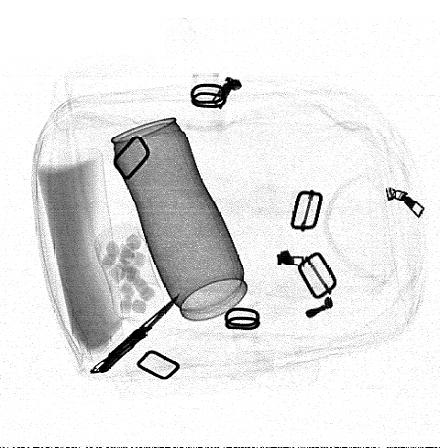Knife: (89, 289, 182, 375)
